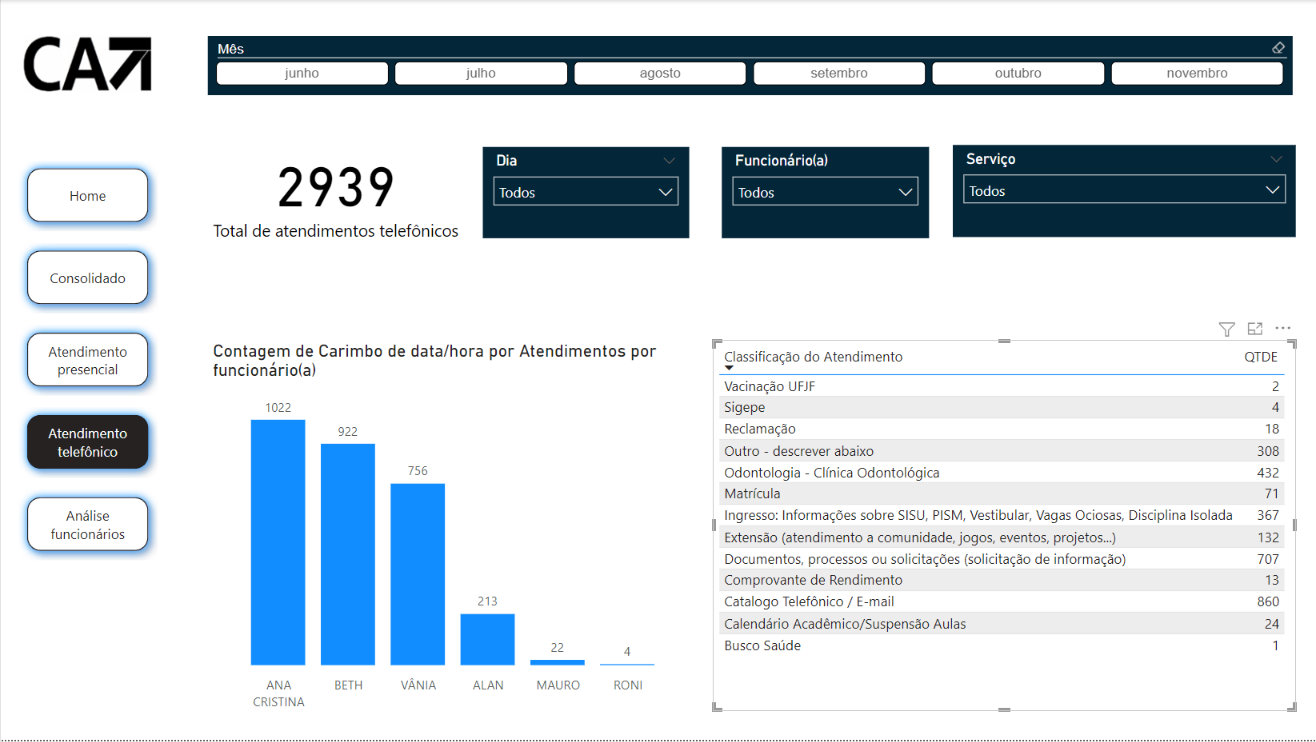

What the dashboard file says about the page in this screenshot:
{"tool":"powerbi","page":{"name":"Telefônico","canvas":[1280,720],"ordinal":2},"visuals":[{"type":"card","fields":{"Values":["Medidas.Total atendimentos telefonicos"]},"box":[197.6,123.8,248.5,109.8],"z":0},{"type":"clusteredColumnChart","title":"Atendimentos telefônicos por funcionário (a)","fields":{"Category":["funcionarios.Funcionario(a)"],"Y":["CountNonNull(atendimento_telefonico.Classificação do Atendimento)"]},"box":[201.3,284,467.8,398.8],"z":1000},{"type":"tableEx","fields":{"Values":["atendimento_telefonico.Classificação do Atendimento1","CountNonNull(atendimento_telefonico.Classificação do Atendimento)"]},"box":[701.4,276.7,544.4,171.1],"z":2000},{"type":"slicer","fields":{"Values":["Calendario.Dia"]},"box":[469.1,143.2,200.5,88.9],"z":3000},{"type":"slicer","fields":{"Values":["funcionarios.Funcionario(a)"]},"box":[701.2,143.2,201.5,88.9],"z":4000},{"type":"slicer","fields":{"Values":["atendimento_telefonico.Classificação do Atendimento1"]},"box":[926.4,141.2,333.8,89.9],"z":5000},{"type":"pageNavigator","box":[16.8,155.1,136.3,392.1],"z":6000},{"type":"image","box":[16.8,25.7,136.3,74.1],"z":7000},{"type":"slicer","fields":{"Values":["Calendario.Data.Variation.Hierarquia de datas.Ano"]},"box":[200,29.8,103.5,61.4],"z":8000},{"type":"slicer","fields":{"Values":["Calendario.Data.Variation.Hierarquia de datas.Mês"]},"box":[306.2,34.6,946,57.3],"z":9000},{"type":"clusteredColumnChart","title":"Atendimentos por hora","fields":{"Category":["dados_telefonico.IntervaloHora"],"Y":["CountNonNull(dados_telefonico.Carimbo de data/hora)"]},"box":[701.6,483.8,550.5,204.6],"z":10000}]}

Visuals, with their boxes on the page's 1280x720 design canvas (x1, y1, x2, y2). These are canvas units, not pixel positions in the 1316x742 screenshot, which may show the page scaled, cropped or inside an application window:
card - Medidas.Total atendimentos telefonicos: bbox=[198, 124, 446, 234]
"Atendimentos telefônicos por funcionário (a)" clusteredColumnChart: bbox=[201, 284, 669, 683]
tableEx - atendimento_telefonico.Classificação do Atendimento1 x CountNonNull(atendimento_telefonico.Classificação do Atendimento): bbox=[701, 277, 1246, 448]
slicer - Calendario.Dia: bbox=[469, 143, 670, 232]
slicer - funcionarios.Funcionario(a): bbox=[701, 143, 903, 232]
slicer - atendimento_telefonico.Classificação do Atendimento1: bbox=[926, 141, 1260, 231]
pageNavigator: bbox=[17, 155, 153, 547]
image: bbox=[17, 26, 153, 100]
slicer - Calendario.Data.Variation.Hierarquia de datas.Ano: bbox=[200, 30, 304, 91]
slicer - Calendario.Data.Variation.Hierarquia de datas.Mês: bbox=[306, 35, 1252, 92]
"Atendimentos por hora" clusteredColumnChart: bbox=[702, 484, 1252, 688]
